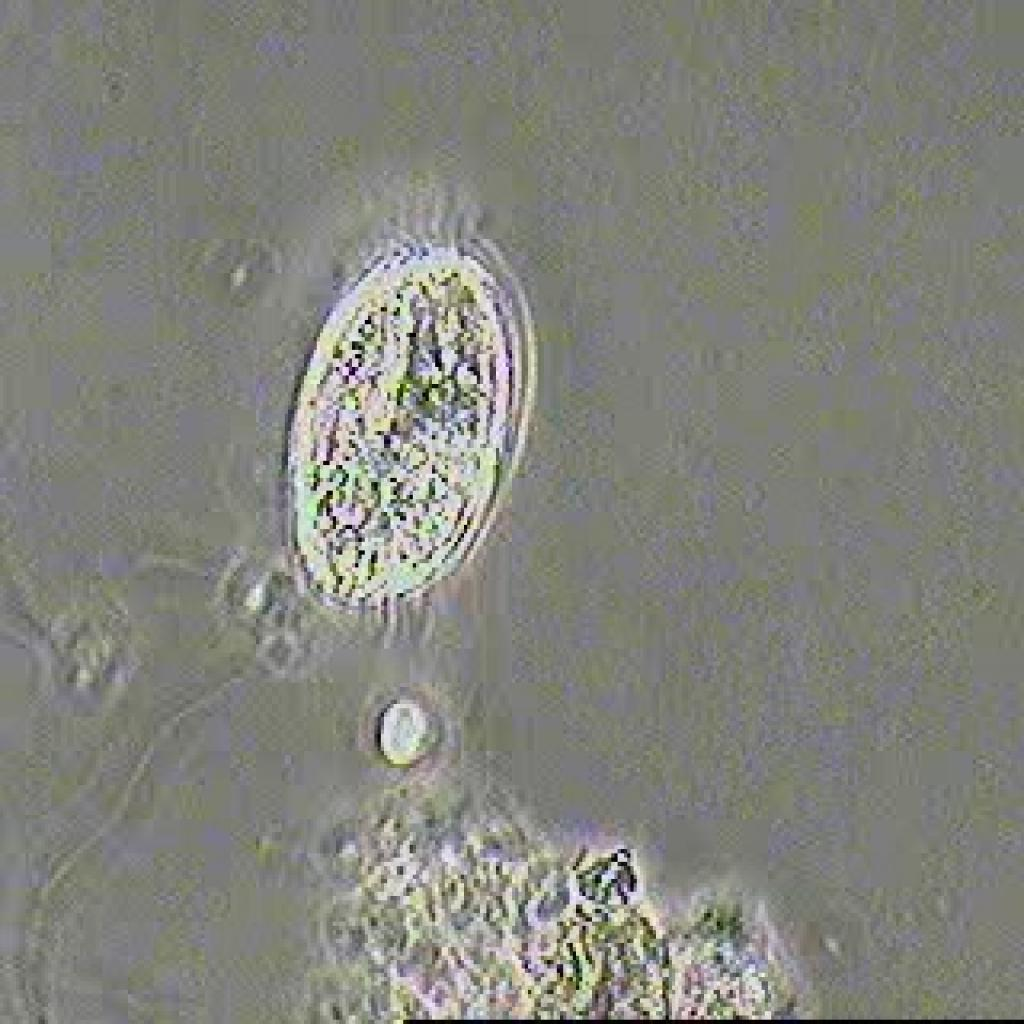Chilodonella: (211, 186, 560, 655)
